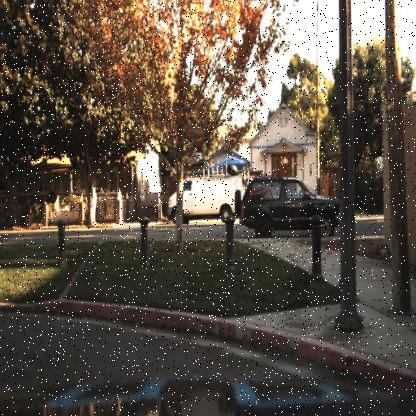car: (237, 170, 338, 238), (166, 164, 246, 223)
truck: (168, 164, 248, 226)
